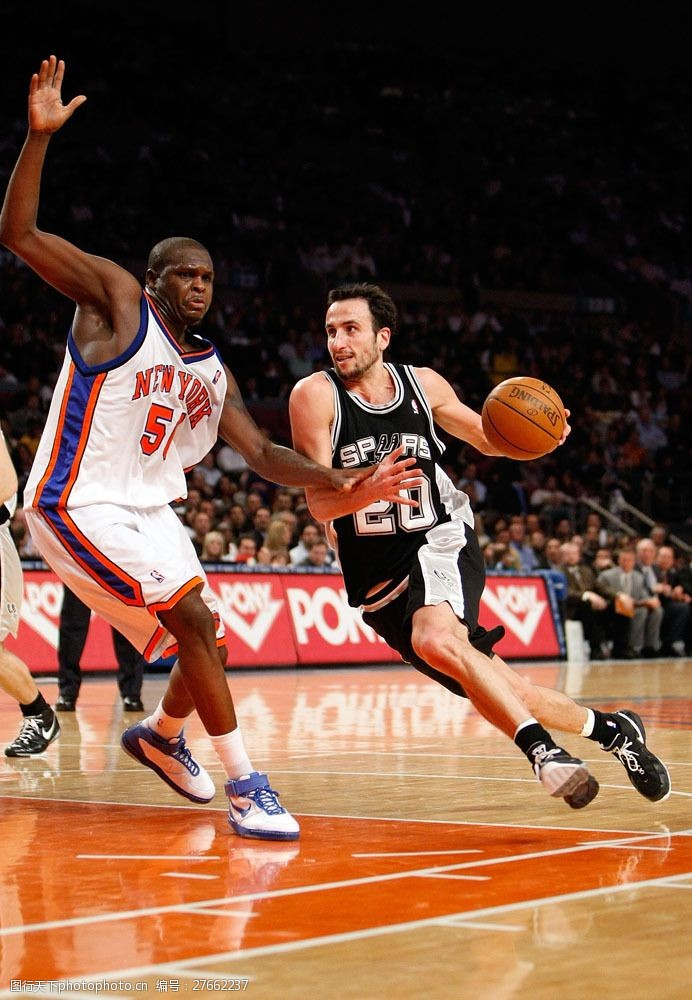ball: (483, 377, 566, 459)
